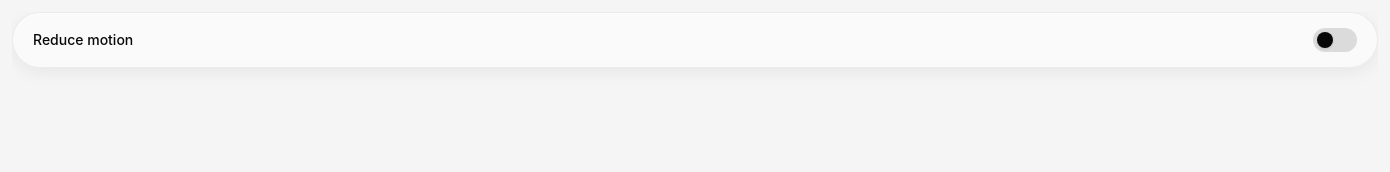
Test: Settings controls › toggles from the label and reports the current value
Click the switch "Reduce motion" at (83, 40), box [12,12,1378,68]
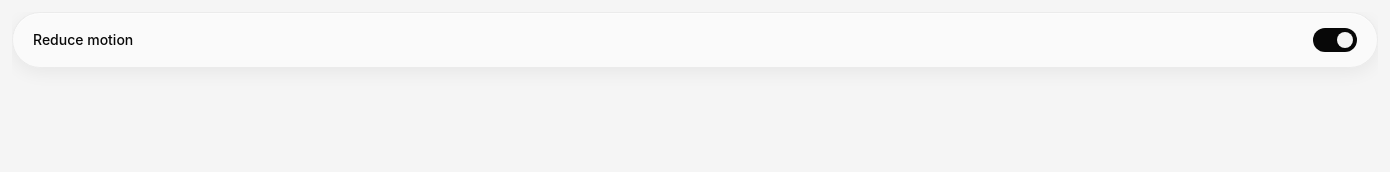
expect the switch labelled "Reduce motion" is checked: met
Click the switch labelled "Reduce motion" at (83, 40), box [12,12,1378,68]
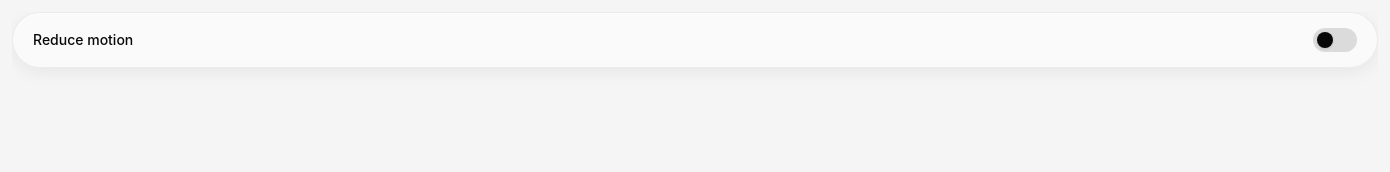
expect the switch is not checked: met, box [12,12,1378,68]
